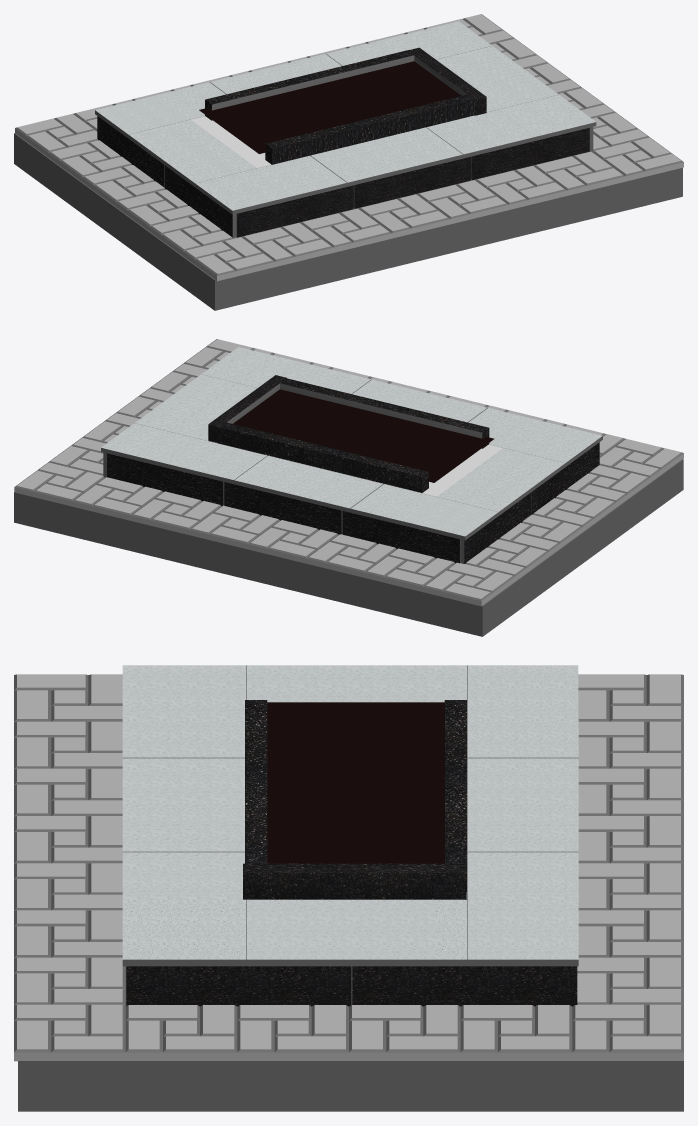
Rendered from 120-180-15 серая черн [u_1_u].glb.
3 renders of one model, top to bottom at view 1: azimuth 30°, elevation 25°; view 2: azimuth 150°, elevation 25°; view 3: azimuth 270°, elevation 25°, orthographic. The views are drawn at different scales.
Parts seen in each view (by area): view 1: plitka.006, Куб.245, Cube.188, Plane.014, Куб.244, Куб.252, Куб.249, Куб.250, Куб.251, Cube.189; view 2: plitka.006, Куб.245, Cube.188, Plane.014, Куб.248, Куб.250, Куб.249, Куб.252, Куб.251, Cube.189; view 3: plitka.006, Куб.245, Cube.188, Plane.014, Куб.247, Куб.251, Куб.250, Куб.252.
Boxes of the visible parts, bbox=[...] form: plitka.006: bbox=[15, 14, 683, 281]; Куб.245: bbox=[95, 21, 596, 214]; Cube.188: bbox=[14, 133, 682, 310]; Plane.014: bbox=[199, 61, 461, 153]; Куб.244: bbox=[236, 128, 588, 237]; Куб.252: bbox=[265, 94, 474, 164]; Куб.249: bbox=[97, 116, 236, 237]; Куб.250: bbox=[205, 50, 414, 120]; Куб.251: bbox=[408, 47, 486, 115]; Cube.189: bbox=[191, 116, 271, 168]; plitka.006: bbox=[14, 339, 683, 606]; Куб.245: bbox=[101, 347, 602, 540]; Cube.188: bbox=[14, 459, 683, 636]; Plane.014: bbox=[233, 389, 494, 482]; Куб.248: bbox=[107, 453, 460, 563]; Куб.250: bbox=[217, 422, 428, 492]; Куб.249: bbox=[460, 442, 599, 563]; Куб.252: bbox=[280, 378, 489, 448]; Куб.251: bbox=[208, 375, 286, 442]; Cube.189: bbox=[266, 444, 502, 496]; plitka.006: bbox=[14, 674, 683, 1061]; Куб.245: bbox=[122, 665, 578, 966]; Cube.188: bbox=[18, 1061, 683, 1111]; Plane.014: bbox=[267, 702, 444, 863]; Куб.247: bbox=[126, 966, 577, 1006]; Куб.251: bbox=[243, 863, 466, 899]; Куб.250: bbox=[444, 700, 466, 891]; Куб.252: bbox=[245, 700, 267, 863].
Bounding box in the file's own units: 2.41 × 0.4003 × 1.8.
8 materials, 3 textured.
